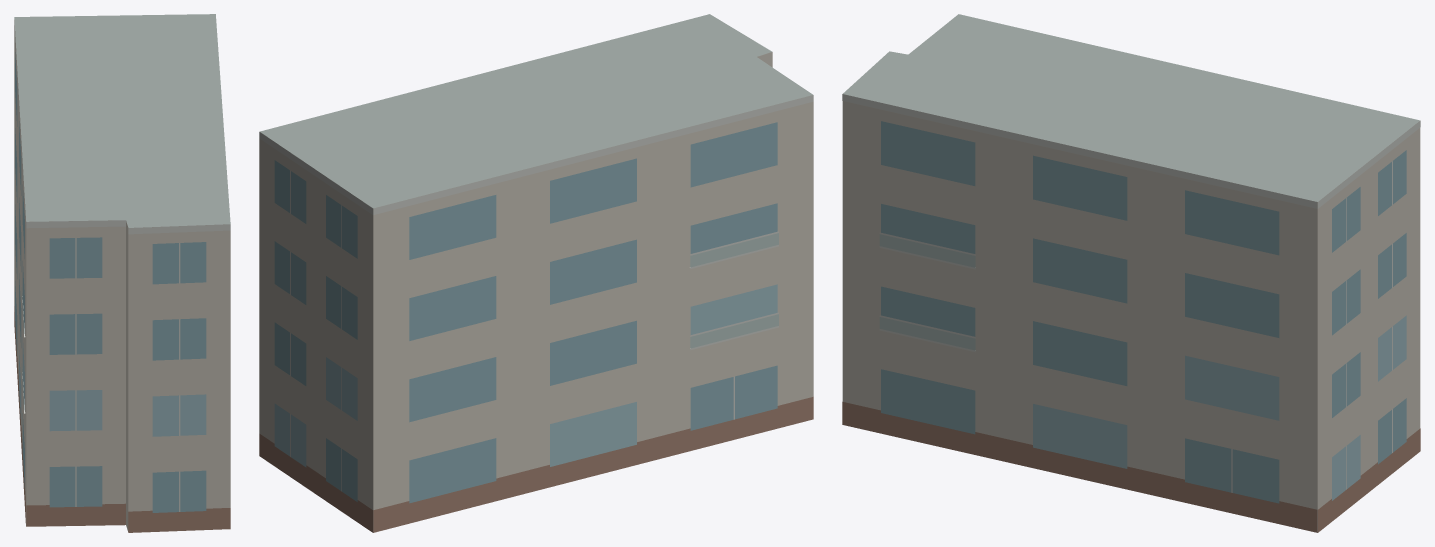
Rendered from survey-upis-33034372.glb.
3 views of the same model, side by side, from view 1: azimuth 30°, elevation 25°; view 2: azimuth 150°, elevation 25°; view 3: azimuth 270°, elevation 25° (orthographic). The views are drawn at different scales.
Parts seen in each view (by area): view 1: survey-upis-33034372.tmp; view 2: survey-upis-33034372.tmp; view 3: survey-upis-33034372.tmp.
Part boxes in pixels (left/top/right/bottom): survey-upis-33034372.tmp: left=14, top=14, right=230, bottom=532; survey-upis-33034372.tmp: left=259, top=14, right=813, bottom=532; survey-upis-33034372.tmp: left=842, top=14, right=1420, bottom=532.
Size of the model in its own units: 14.27 by 11.7 by 18.54.
